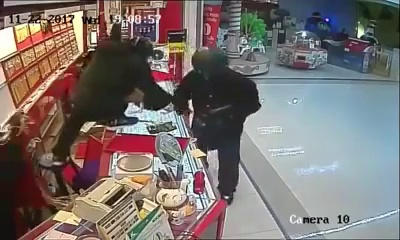helmet: (190, 45, 230, 82), (134, 35, 152, 54)
